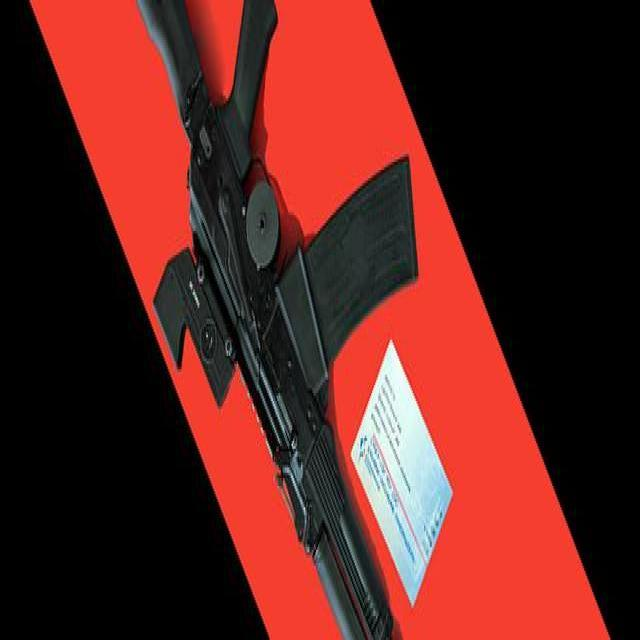weapon: (135, 0, 420, 640)
